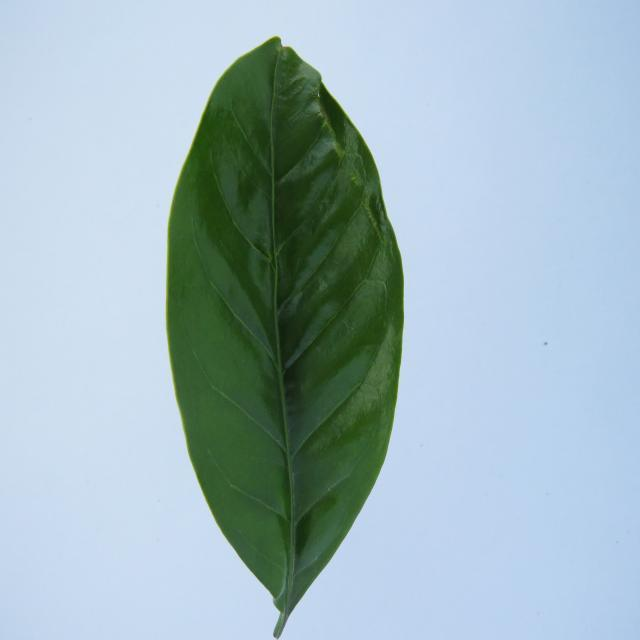DeficienciaNutricional-Boro: (166, 37, 404, 637)
